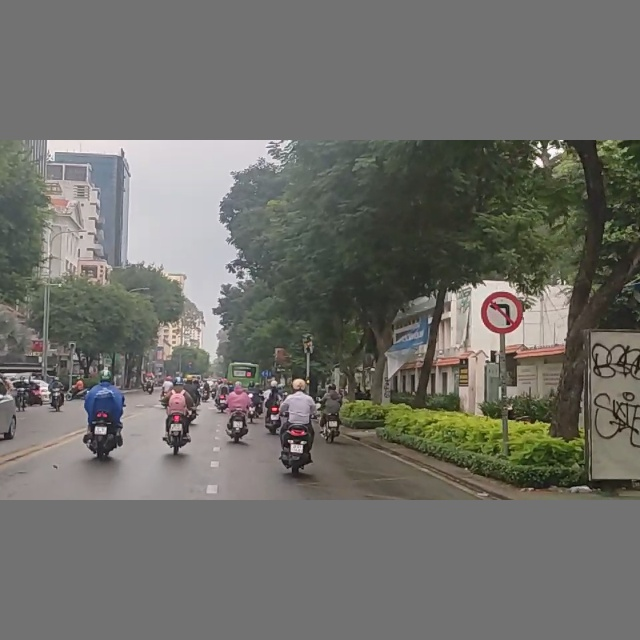P.123a: (480, 292, 525, 333)
